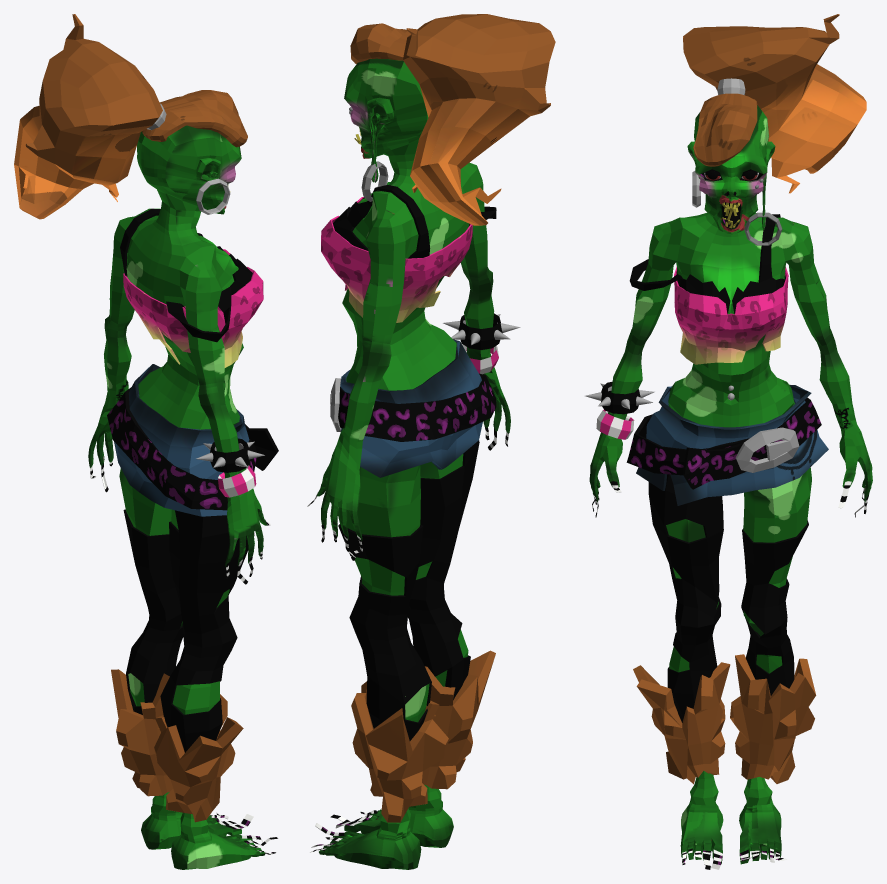
File: ZombieChica.fbx
3 views of the same model, side by side, from view 1: azimuth 30°, elevation 25°; view 2: azimuth 150°, elevation 25°; view 3: azimuth 270°, elevation 25° (orthographic). The views are drawn at different scales.
Visible parts, largest first — view 1: Cube.001, Cube.010, Cube.007, Cube.013, Cube.008, Cube.006, Cube.005, Cube.003, Torus.002, Torus.003, Cube.004, Torus; view 2: Cube.001, Cube.010, Cube.007, Cube.013, Cube.006, Cube.005, Cube.008, Cube.003, Torus.003, Cube.004, Torus.001, Cone; view 3: Cube.001, Cube.010, Cube.007, Cube.013, Cube.006, Cube.005, Cube.008, Cube.003, Cube.009, Torus.002, Cube.004, Torus.003.
Boxes of the visible parts, left/top/right/bottom form: Cube.001: left=88, top=125, right=267, bottom=869; Cube.010: left=14, top=14, right=247, bottom=219; Cube.007: left=123, top=509, right=254, bottom=752; Cube.013: left=111, top=669, right=243, bottom=822; Cube.008: left=107, top=387, right=278, bottom=510; Cube.006: left=114, top=364, right=249, bottom=516; Cube.005: left=123, top=249, right=263, bottom=367; Cube.003: left=120, top=208, right=259, bottom=342; Torus.002: left=218, top=465, right=256, bottom=497; Torus.003: left=210, top=438, right=249, bottom=472; Cube.004: left=211, top=812, right=277, bottom=854; Torus: left=196, top=178, right=230, bottom=214; Cube.001: left=317, top=58, right=510, bottom=869; Cube.010: left=350, top=14, right=555, bottom=225; Cube.007: left=338, top=440, right=479, bottom=740; Cube.013: left=351, top=650, right=495, bottom=822; Cube.006: left=333, top=339, right=482, bottom=477; Cube.005: left=321, top=197, right=472, bottom=322; Cube.008: left=338, top=373, right=496, bottom=441; Cube.003: left=333, top=185, right=496, bottom=258; Torus.003: left=458, top=313, right=502, bottom=349; Cube.004: left=310, top=810, right=377, bottom=852; Torus.001: left=361, top=161, right=388, bottom=201; Cone: left=443, top=314, right=520, bottom=344; Cube.001: left=589, top=105, right=872, bottom=864; Cube.010: left=683, top=14, right=866, bottom=193; Cube.007: left=648, top=474, right=808, bottom=722; Cube.013: left=633, top=654, right=816, bottom=784; Cube.006: left=636, top=384, right=828, bottom=505; Cube.005: left=674, top=266, right=788, bottom=364; Cube.008: left=626, top=397, right=821, bottom=489; Cube.003: left=629, top=214, right=785, bottom=314; Cube.009: left=735, top=427, right=799, bottom=472; Torus.002: left=596, top=409, right=634, bottom=439; Cube.004: left=682, top=848, right=786, bottom=869; Torus.003: left=601, top=381, right=640, bottom=414.
Bounding box in the file's own units: 1021 × 3495 × 1151.
